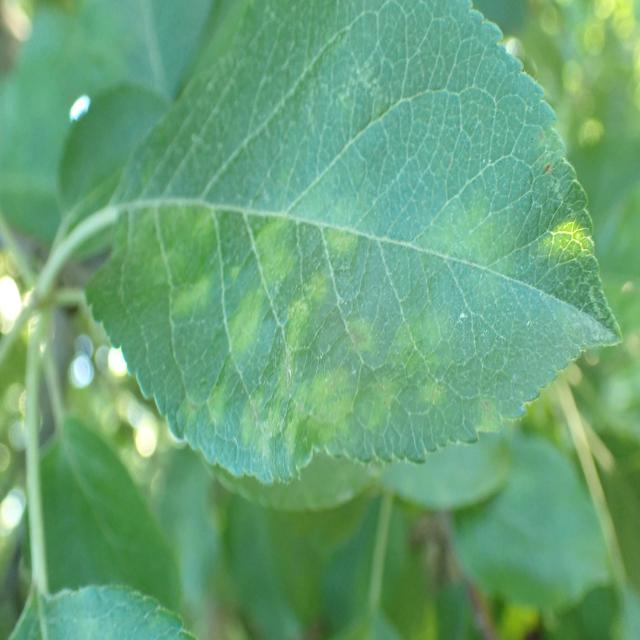scab: (92, 139, 605, 524)
